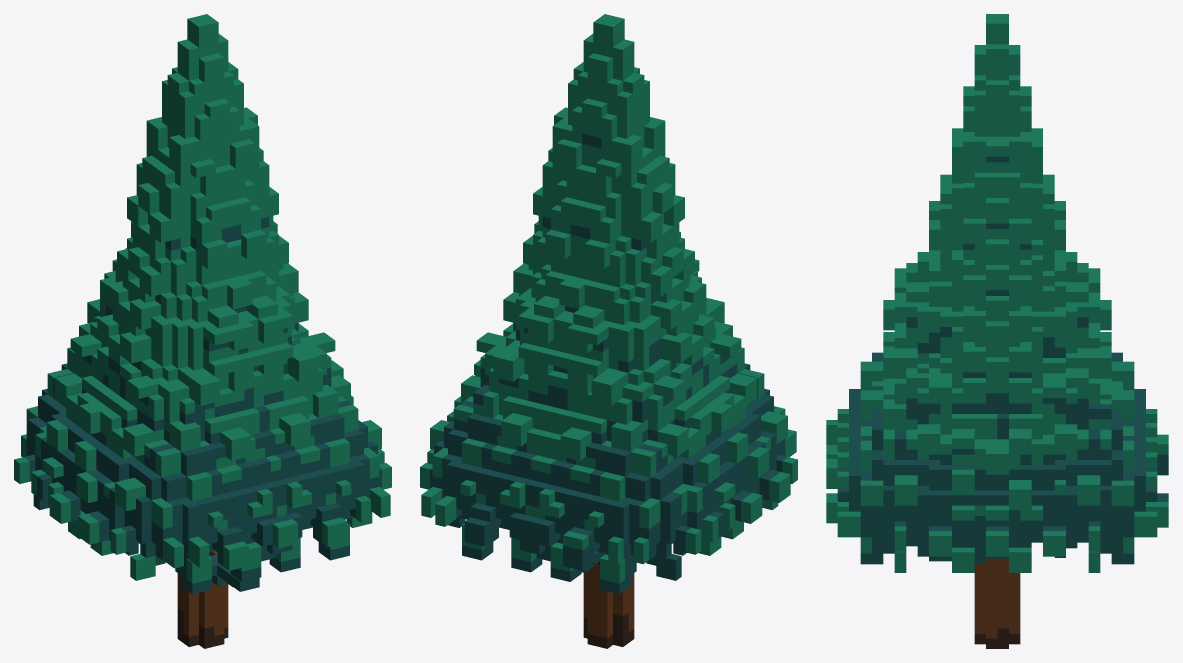
The model's file is PineTree.fbx.
3 renders of one model, left to right at view 1: azimuth 30°, elevation 25°; view 2: azimuth 150°, elevation 25°; view 3: azimuth 270°, elevation 25°, orthographic.
Visible parts, largest first — view 1: PineTree; view 2: PineTree; view 3: PineTree.
Boxes of the visible parts, <box> form: PineTree: <box>14,14,391,648</box>; PineTree: <box>420,14,797,648</box>; PineTree: <box>826,14,1168,648</box>.
Size of the model in its own units: 300 by 600 by 300.
